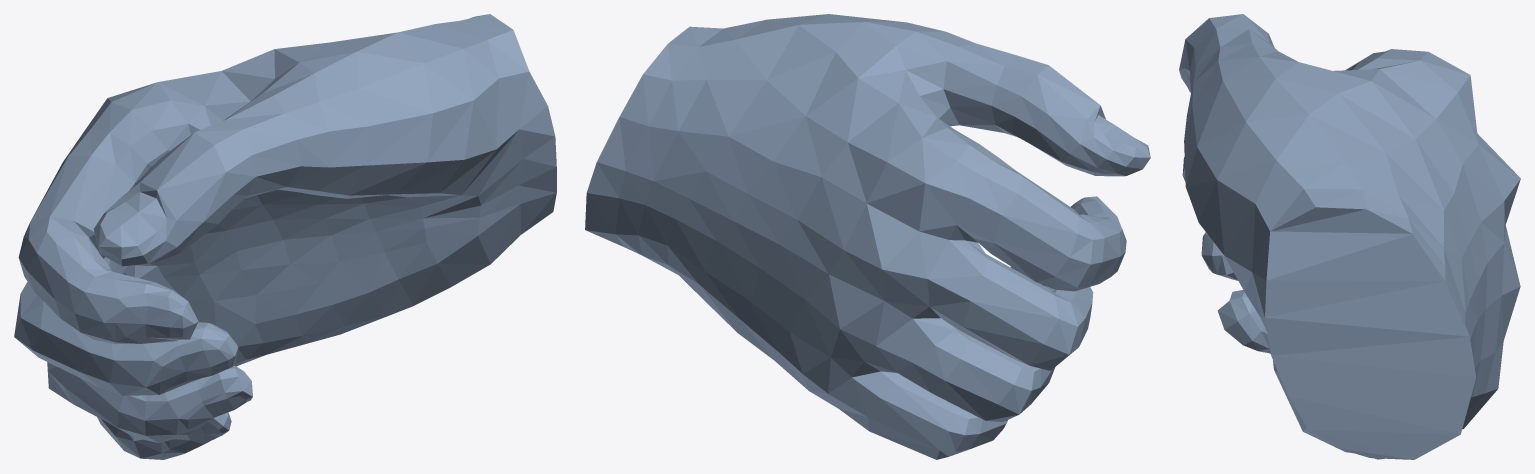
File: frame_00019_0.obj
The picture shows the model from 3 angles, left to right: view 1: azimuth 30°, elevation 25°; view 2: azimuth 150°, elevation 25°; view 3: azimuth 270°, elevation 25°; orthographic projection. The views are drawn at different scales.
Bounding box in the file's own units: 0.1425 × 0.1035 × 0.0755.
